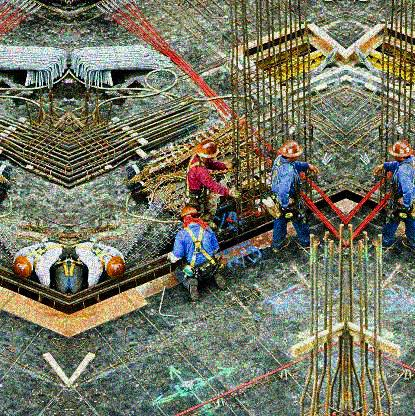helmet: (389, 141, 414, 164), (278, 139, 303, 162)
